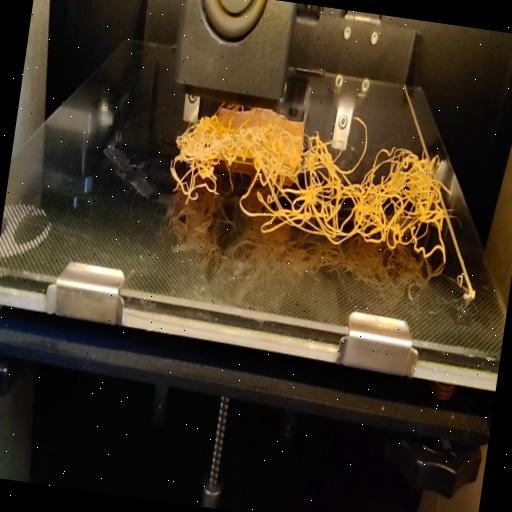spaghetti: (288, 106, 466, 268), (162, 105, 304, 232)
